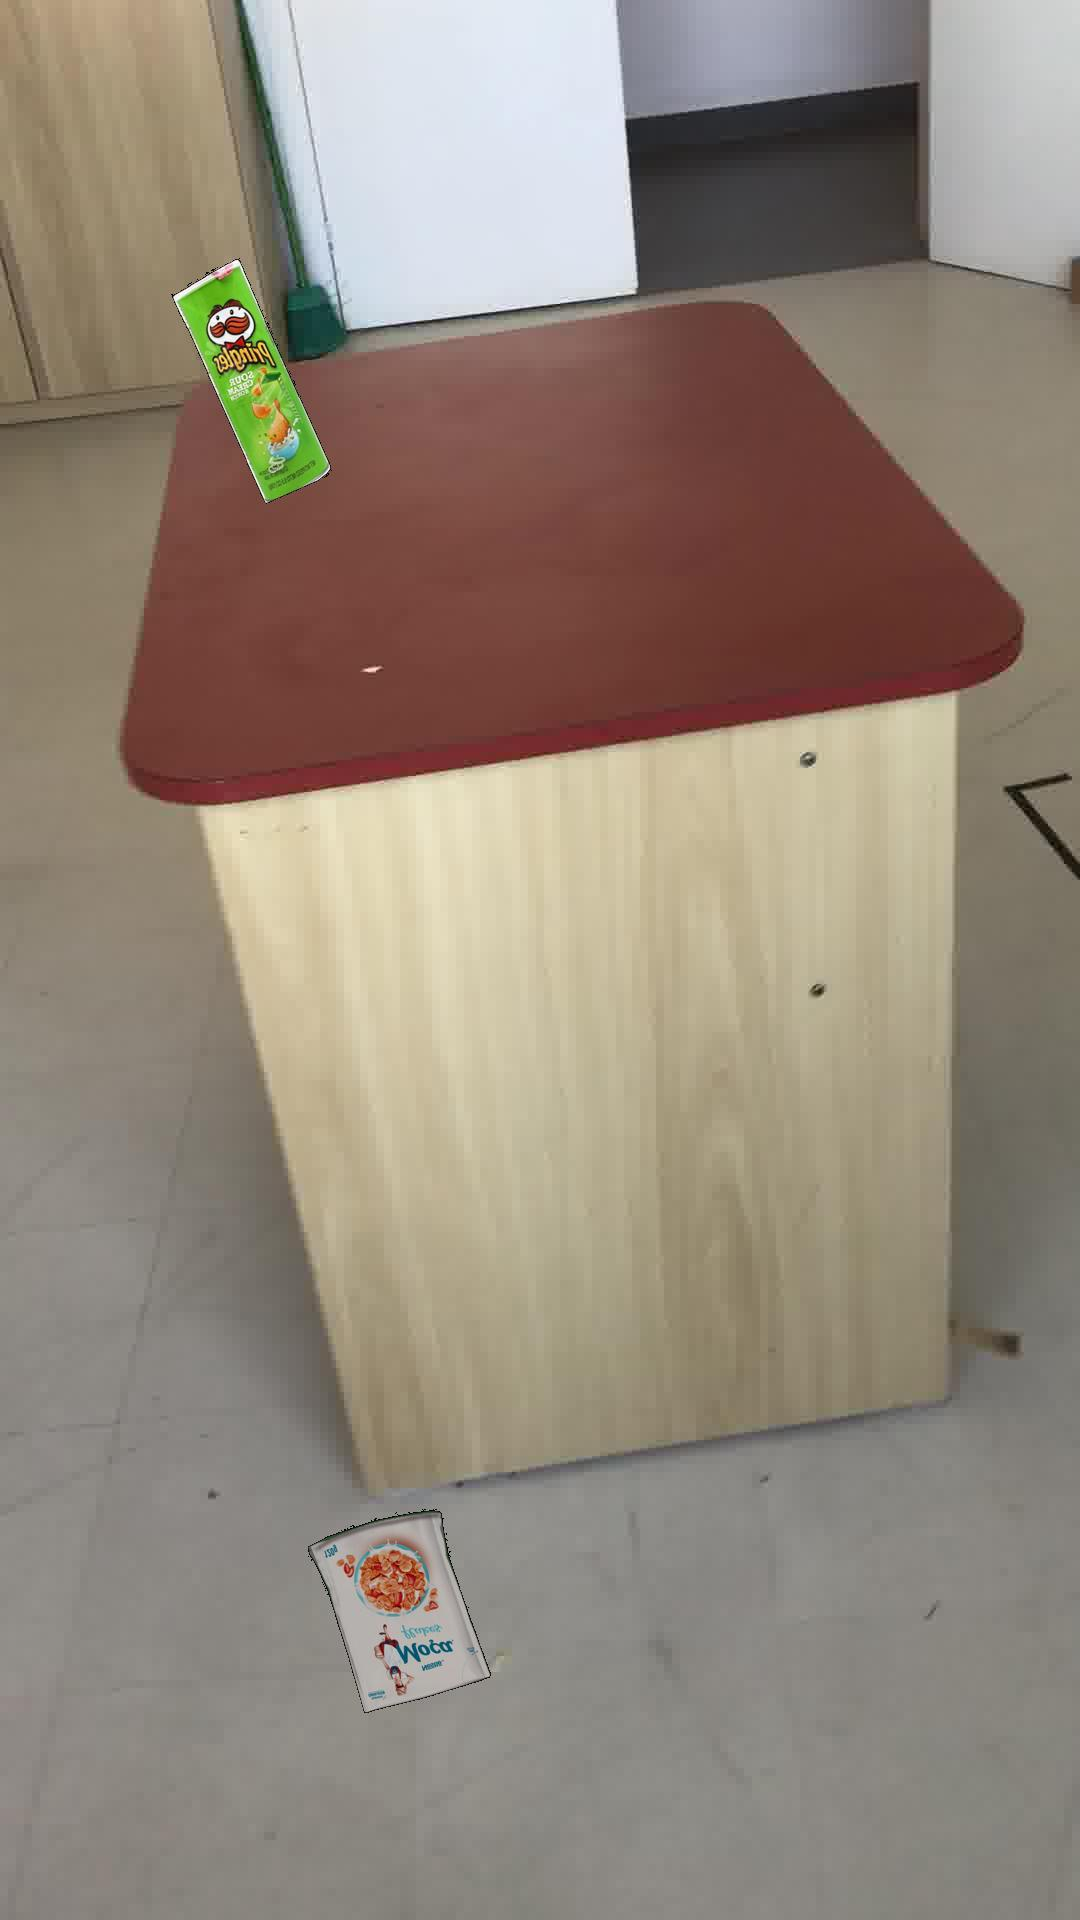corn flakes: (306, 1507, 489, 1712)
pringles: (170, 257, 330, 502)
